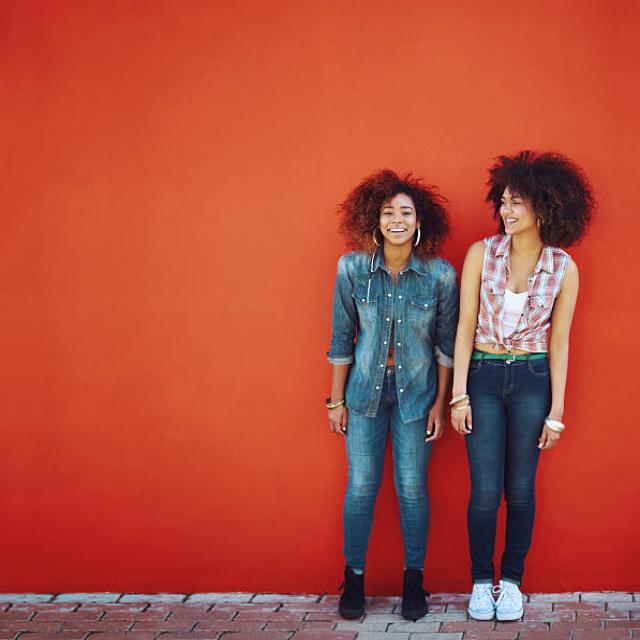Real human 2: (311, 139, 600, 640)
